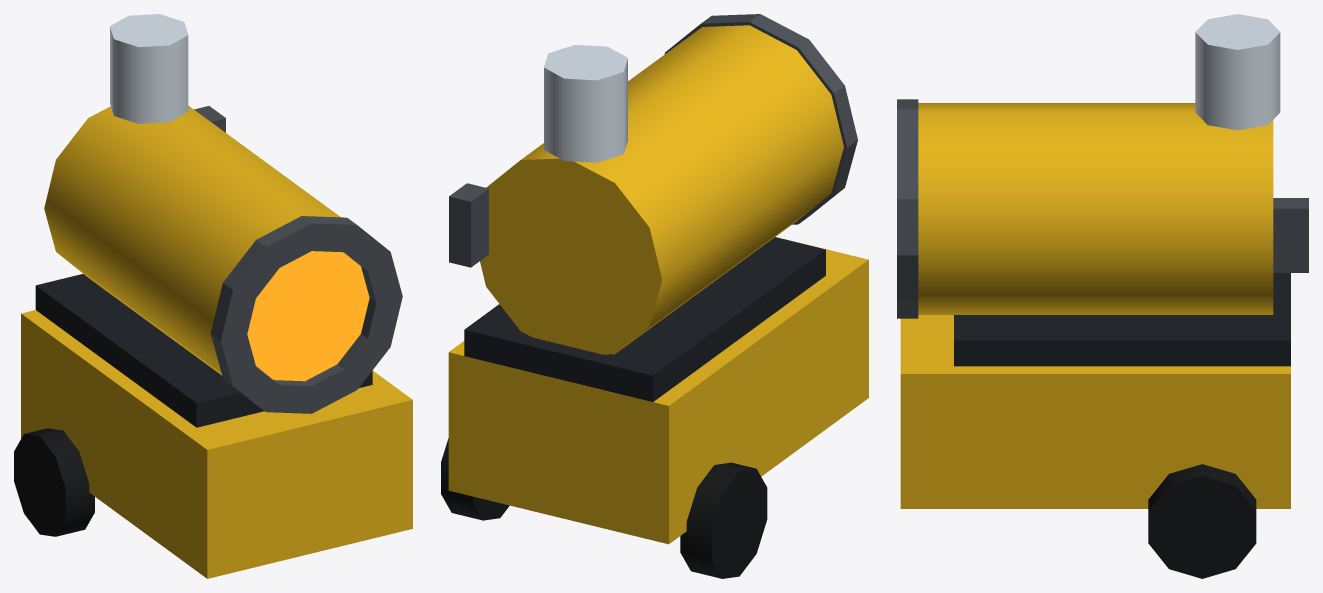
The model's file is so_heater.glb.
3 renders of one model, left to right at view 1: azimuth 30°, elevation 25°; view 2: azimuth 150°, elevation 25°; view 3: azimuth 270°, elevation 25°, orthographic. The views are drawn at different scales.
Parts seen in each view (by area): view 1: so_heater; view 2: so_heater; view 3: so_heater.
Boxes of the visible parts, x1,y1,x2,y2 form: so_heater: (14, 14, 412, 578); so_heater: (441, 14, 868, 578); so_heater: (897, 14, 1308, 578).
Size of the model in its own units: 0.86 by 1.5 by 1.16.
